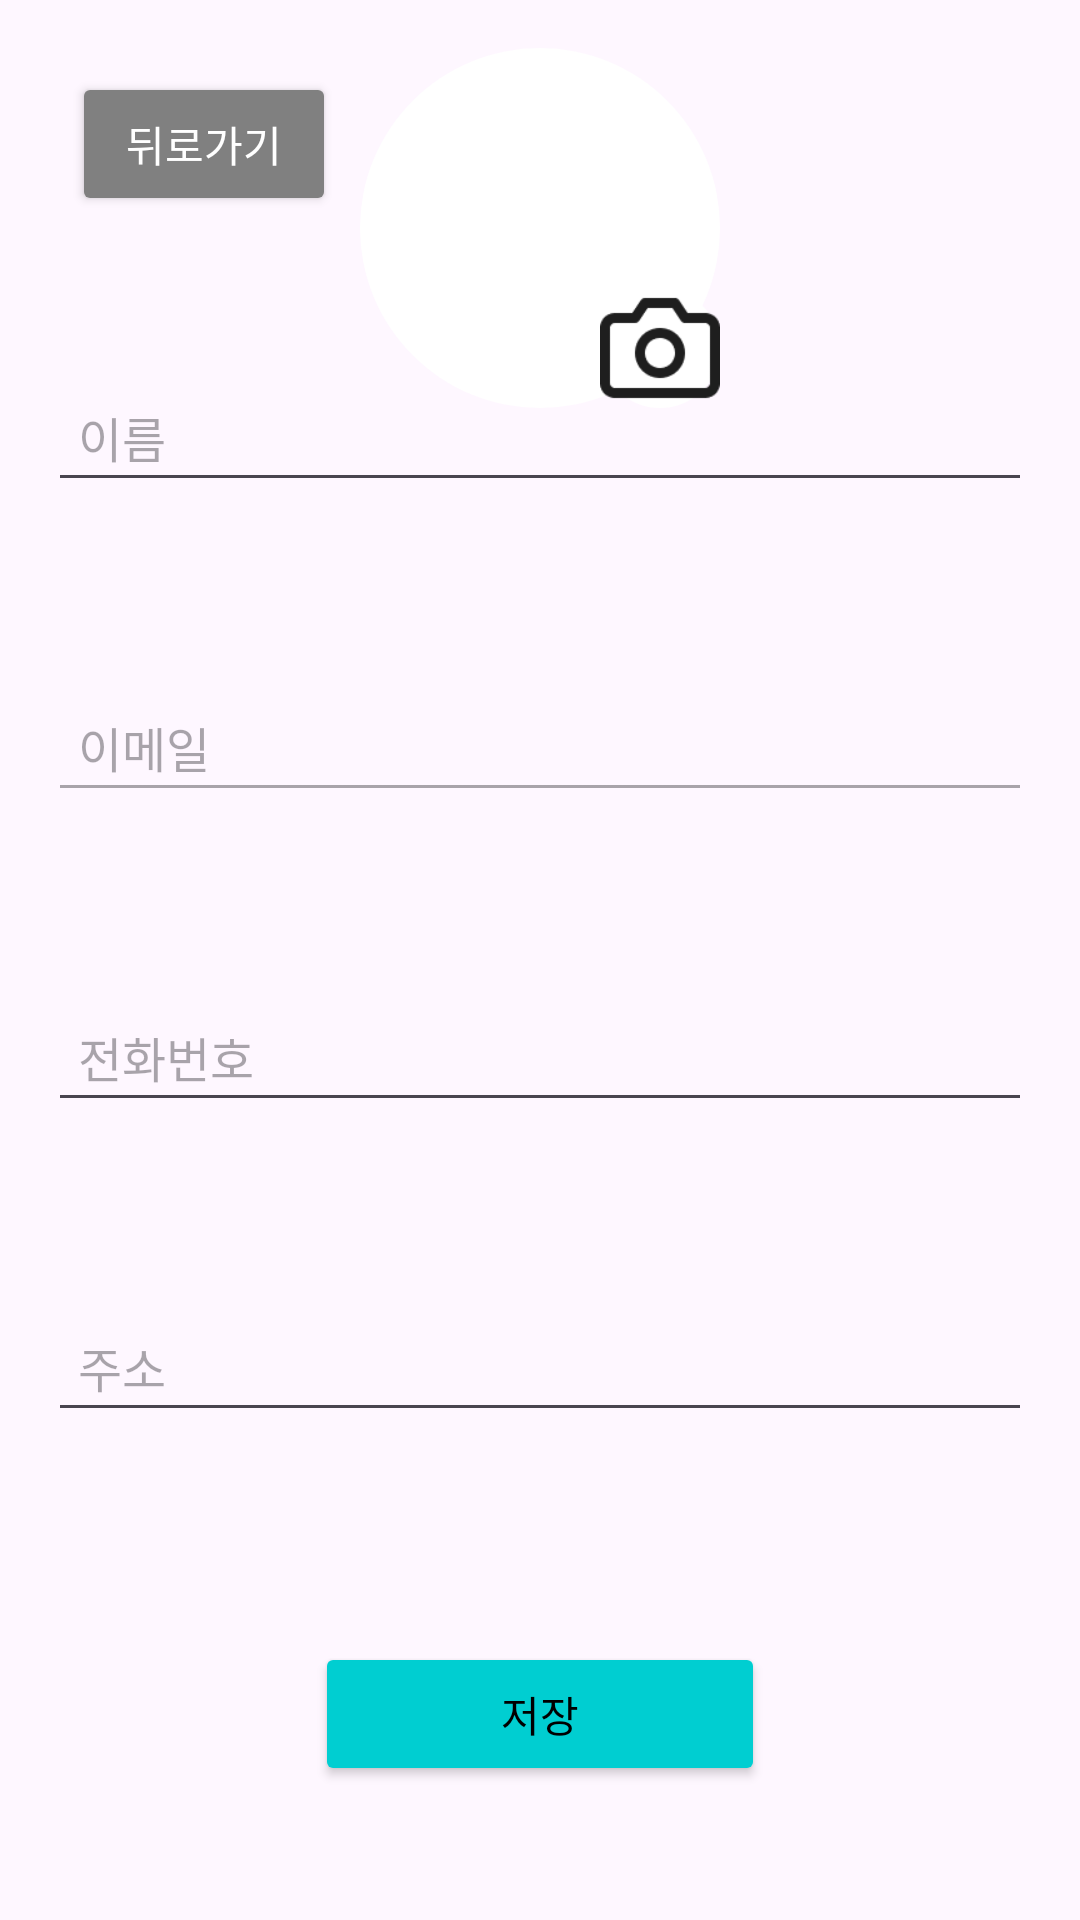

Where icons sit on this 1080 × 1920 app screen, as (x1=x1, y1=y1, x2=x2, y2=y2):
사진 변경: (x1=600, y1=298, x2=720, y2=398)
